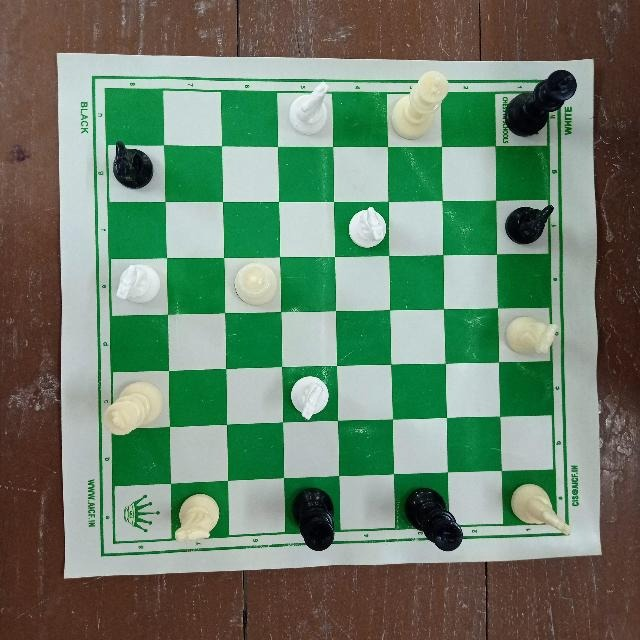black-king: (505, 70, 577, 144), (400, 481, 463, 554), (287, 483, 342, 555)
black-knight: (104, 135, 156, 195), (502, 202, 556, 250)
white-king: (392, 66, 449, 140), (101, 374, 166, 438)
white-knight: (505, 478, 574, 538), (171, 486, 225, 545), (287, 77, 335, 139), (503, 315, 562, 359), (287, 376, 337, 424), (114, 261, 166, 307), (343, 202, 390, 249)
white-queen: (230, 257, 282, 312)
